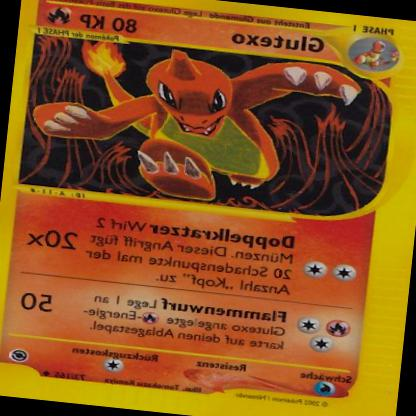Charmeleon: (25, 35, 341, 216)
